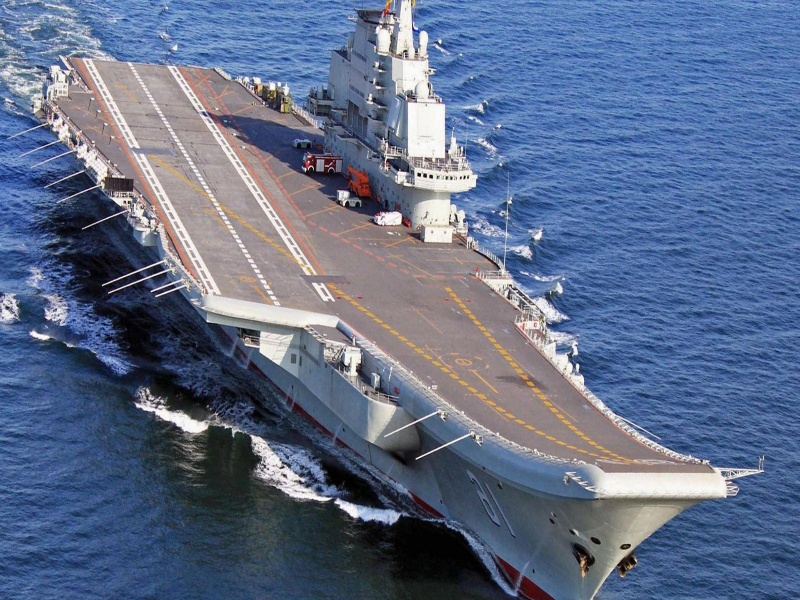carrier: (60, 16, 756, 583)
